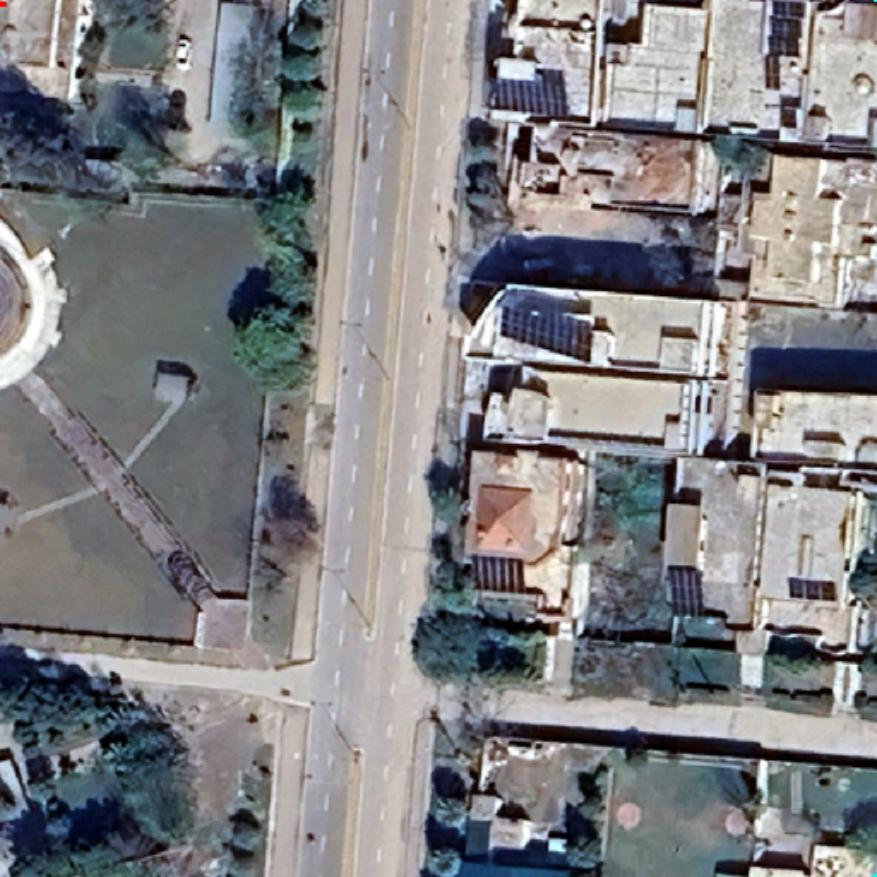Solarpanel: (495, 300, 592, 367), (485, 64, 573, 122), (466, 549, 530, 597), (661, 561, 709, 621), (764, 0, 809, 60), (782, 572, 842, 606), (764, 52, 780, 89)
